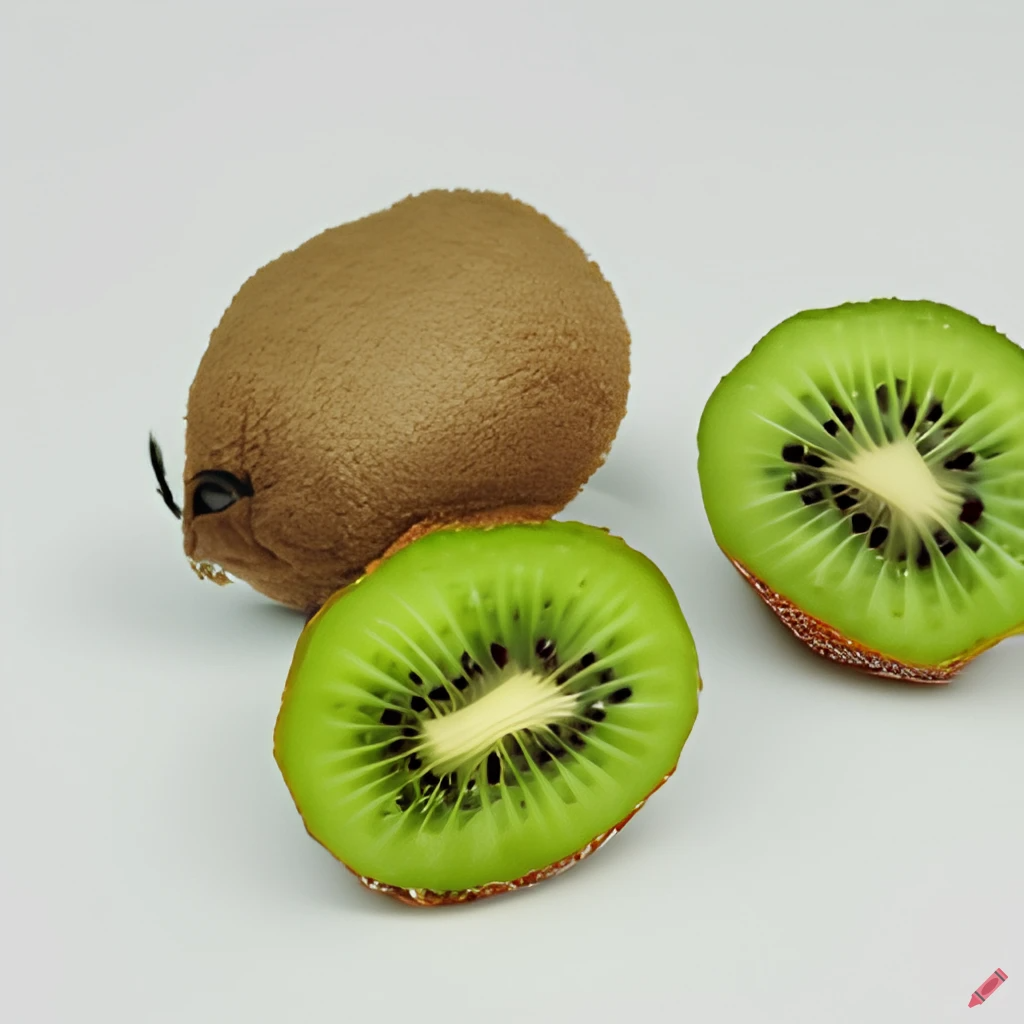Kiwi: (251, 531, 718, 906)
